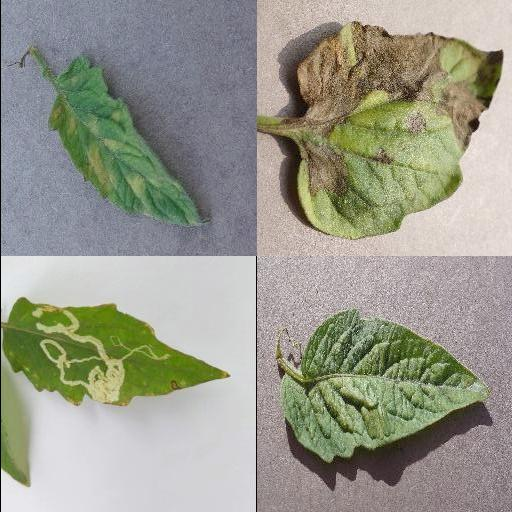Late Blight: (295, 20, 503, 240)
Leaf Miner: (0, 296, 233, 409)
Leaf Mold: (43, 56, 209, 228)
Spider Mites: (278, 307, 490, 461)
